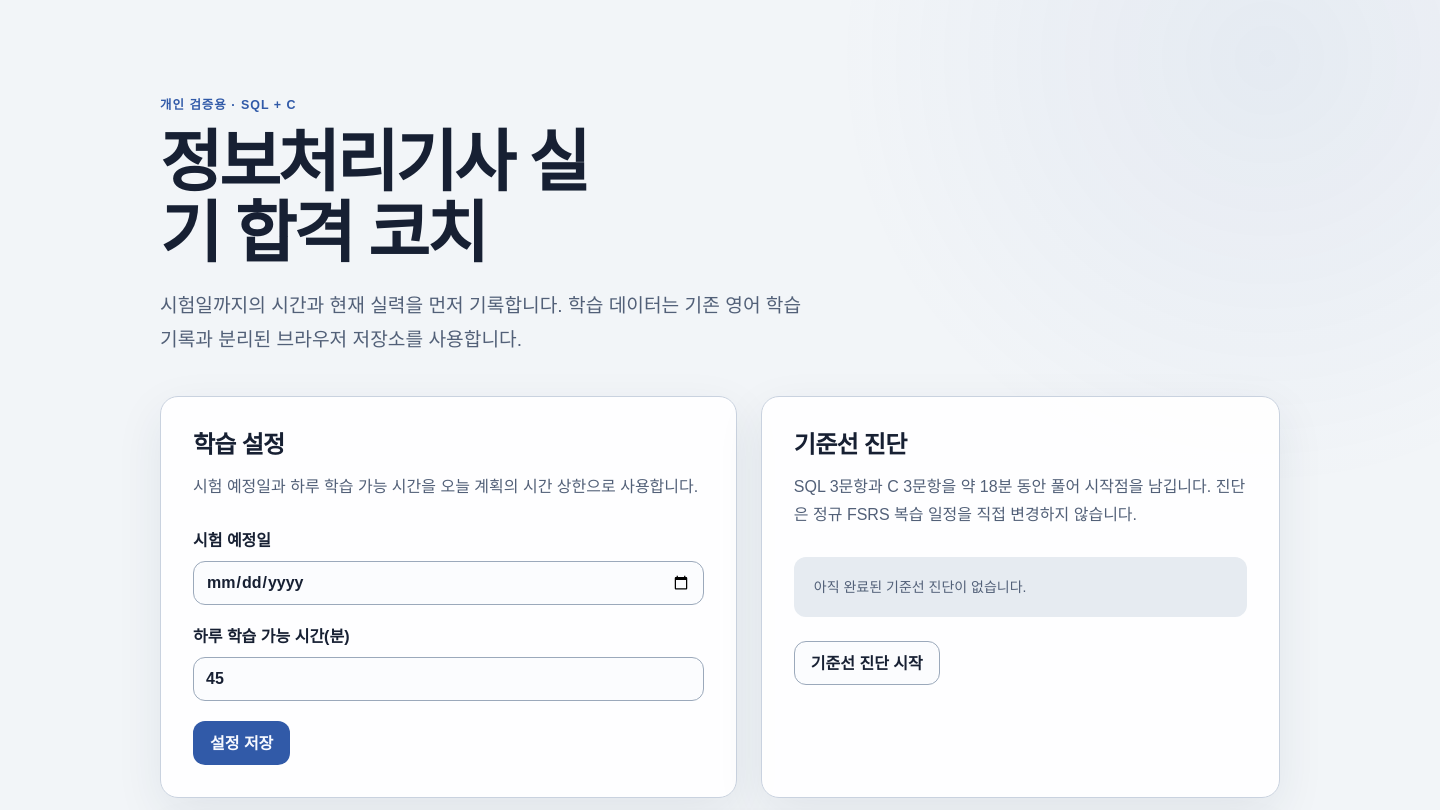
Test: ExamCoachGuestToday › persists study settings in the exam coach namespace
The width and height of the screenshot is (1440, 810).
Type "2026-12-20" into the date field labelled "시험 예정일" at (448, 583), box [193, 561, 704, 605]
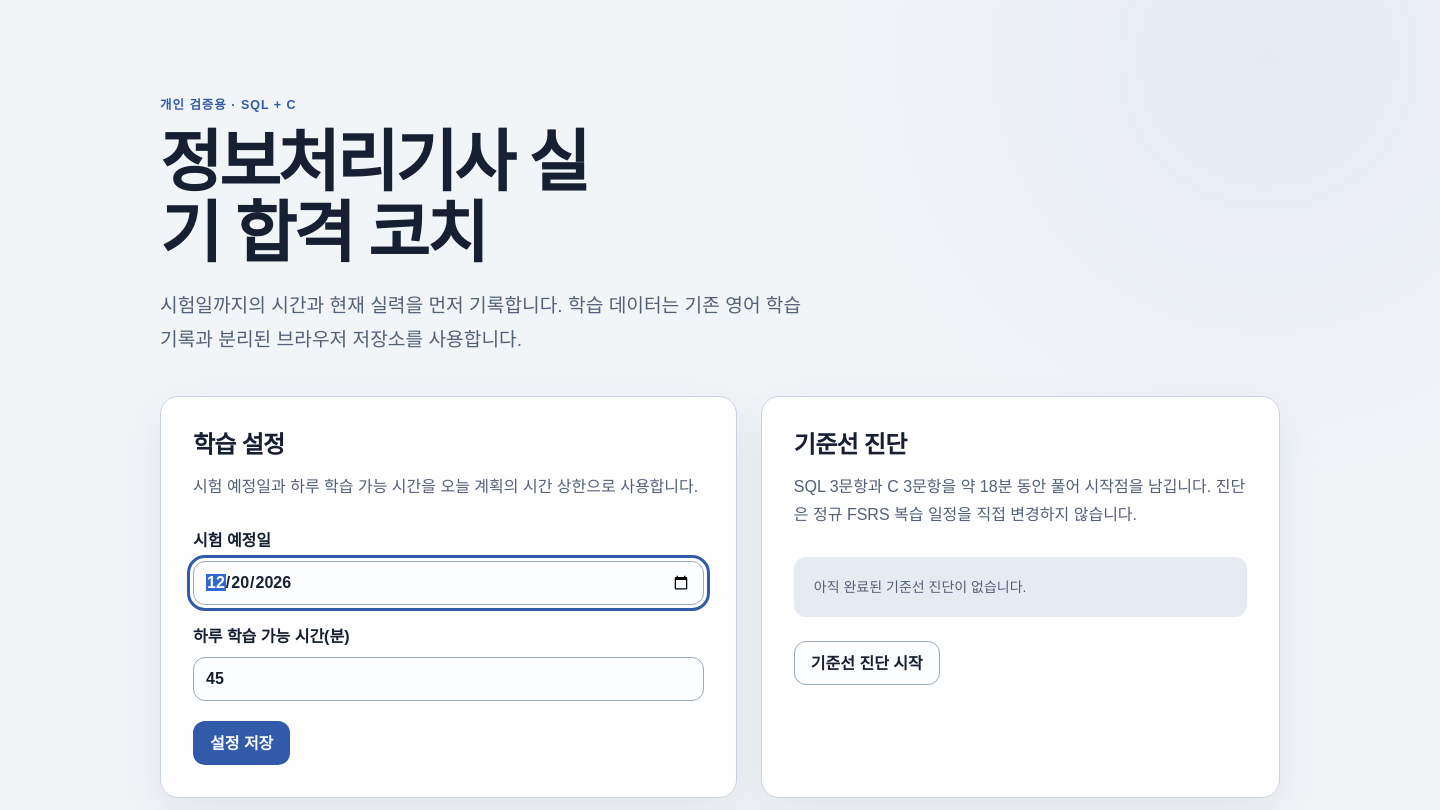
Replace the text in the number field labelled "하루 학습 가능 시간(분)" with "60" at (448, 679), box [193, 657, 704, 701]
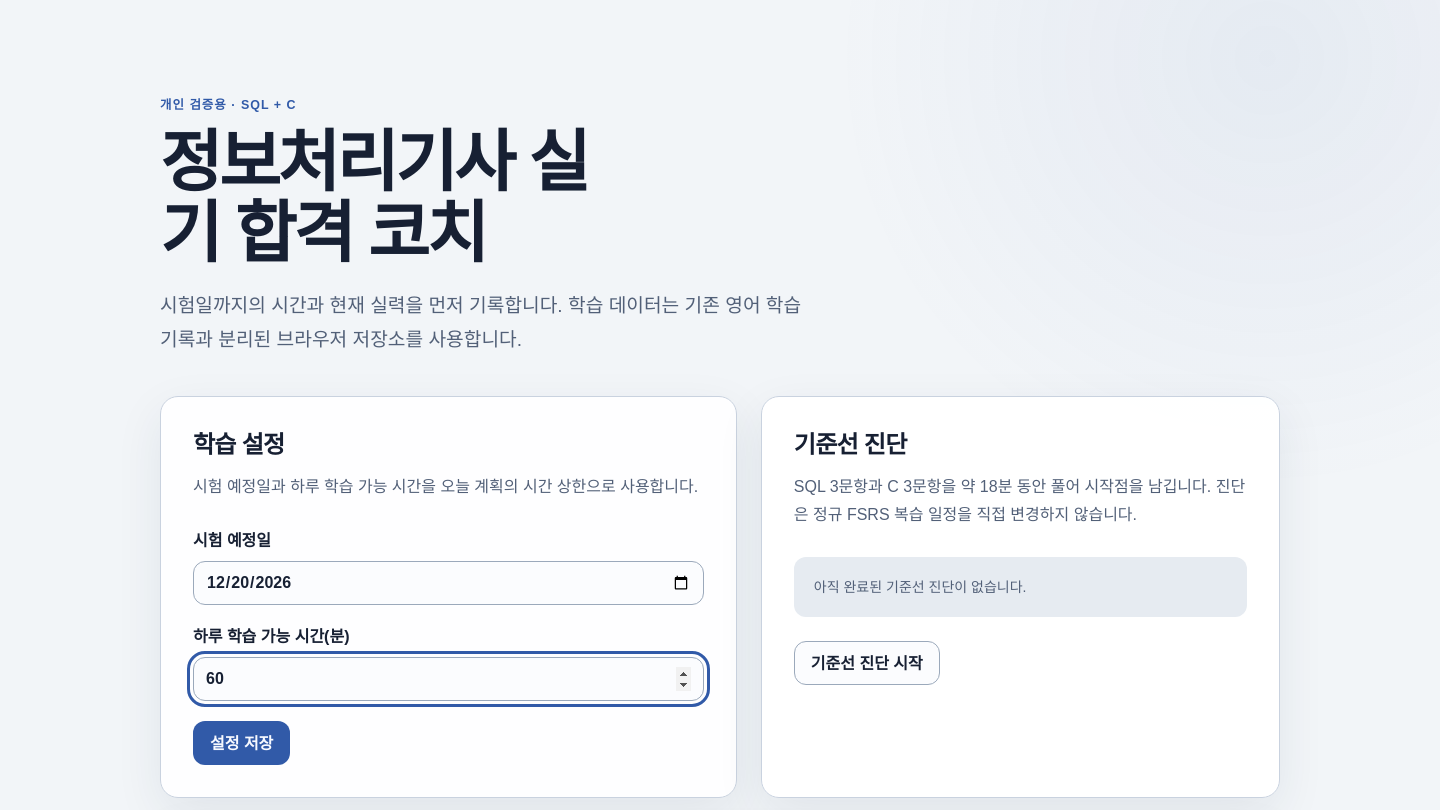
Click the button "설정 저장" at (242, 743), box [193, 721, 290, 765]
(page scrolled)
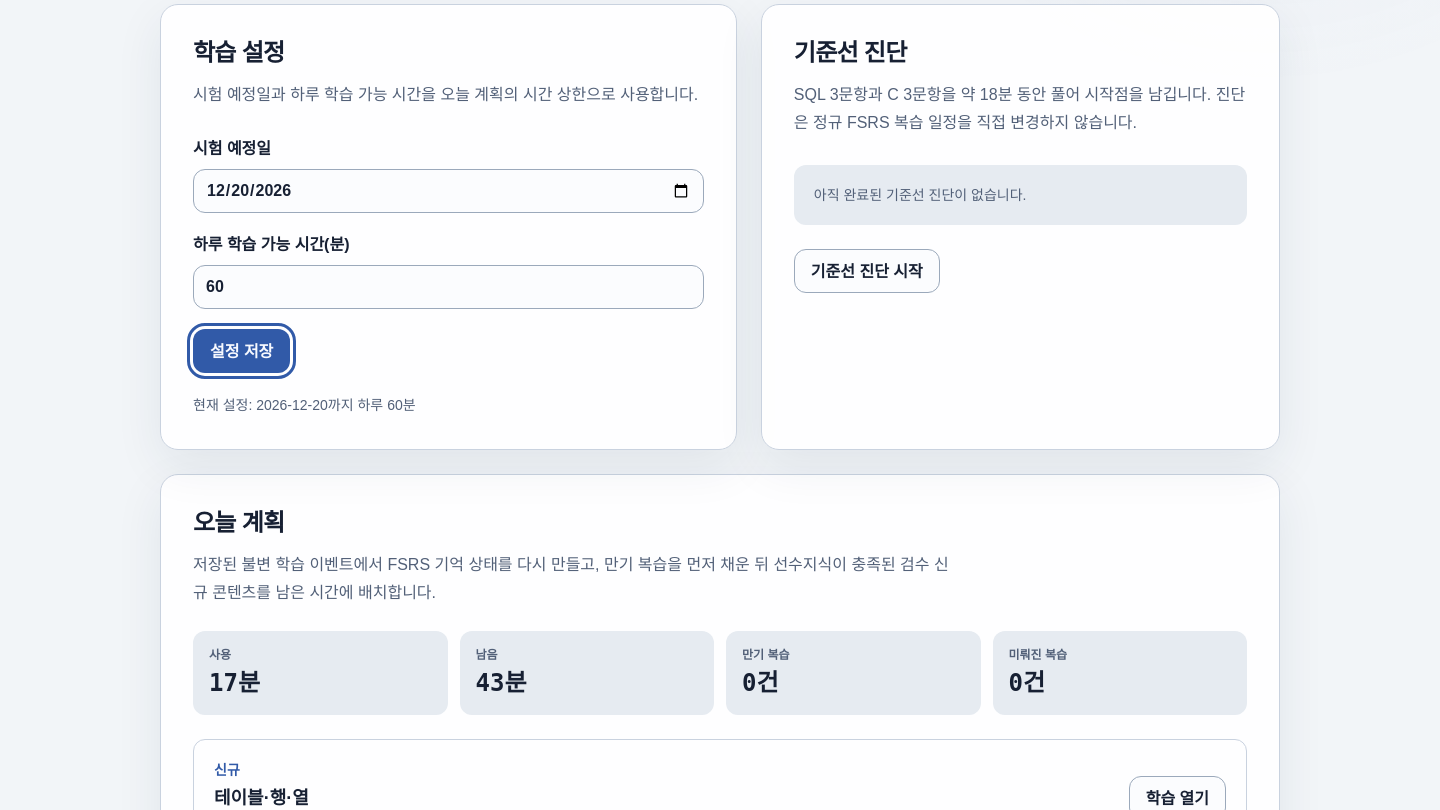
Expected: the text "현재 설정: 2026-12-20까지 하루 60분" is shown, [193, 397, 416, 413]
